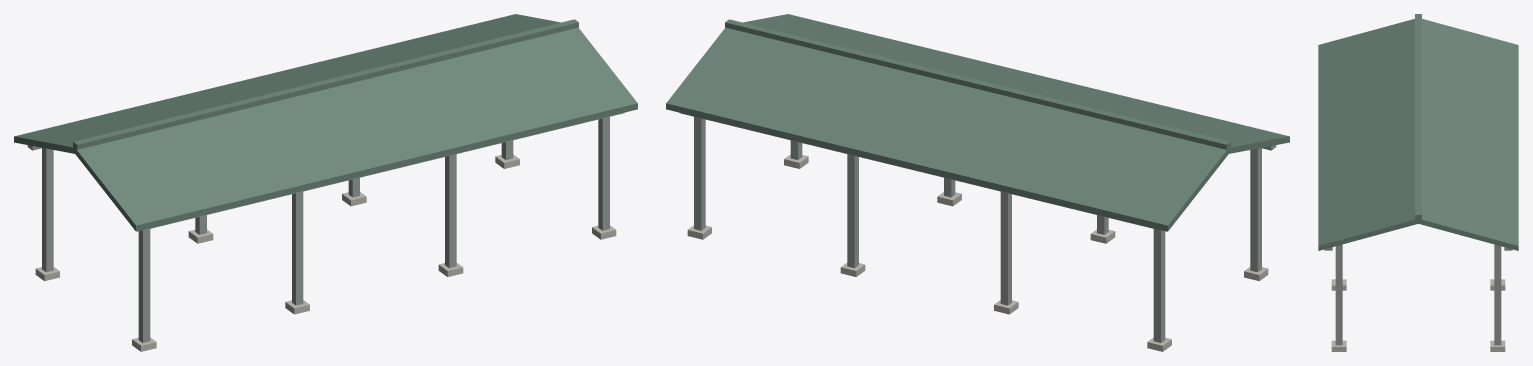
The picture shows the model from 3 angles, left to right: view 1: azimuth 30°, elevation 25°; view 2: azimuth 150°, elevation 25°; view 3: azimuth 270°, elevation 25°; orthographic projection. The views are drawn at different scales.
Visible parts, largest first — view 1: osm533849947__roof, osm533849947__steel, osm533849947__base; view 2: osm533849947__roof, osm533849947__steel, osm533849947__base; view 3: osm533849947__roof, osm533849947__steel, osm533849947__base.
Part boxes in pixels (<box>): osm533849947__roof: <box>14,14,637,231</box>; osm533849947__steel: <box>27,113,623,342</box>; osm533849947__base: <box>35,154,616,351</box>; osm533849947__roof: <box>666,14,1289,231</box>; osm533849947__steel: <box>680,113,1276,342</box>; osm533849947__base: <box>687,154,1268,351</box>; osm533849947__roof: <box>1318,14,1518,250</box>; osm533849947__steel: <box>1324,244,1512,345</box>; osm533849947__base: <box>1331,279,1505,351</box>.
Bounding box in the file's own units: 10.27 × 3.39 × 4.32.
